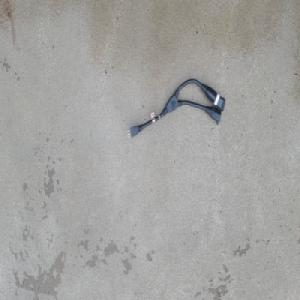Wire: (125, 76, 226, 139)
